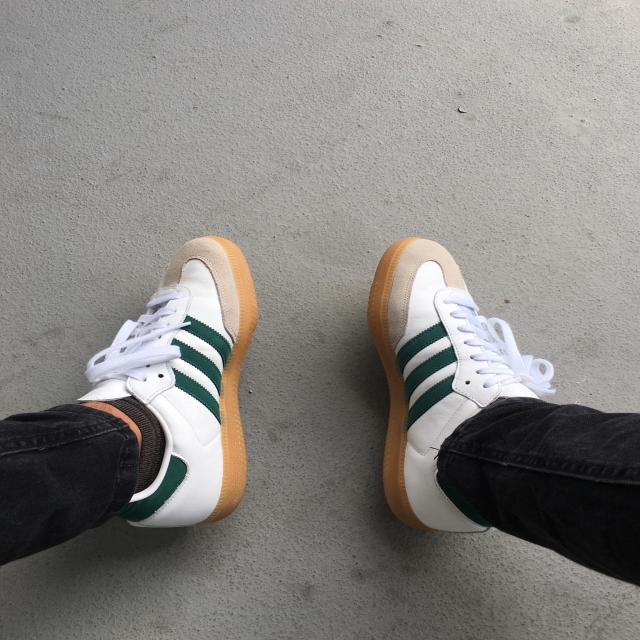shoe: (361, 234, 565, 540), (72, 231, 263, 539)
